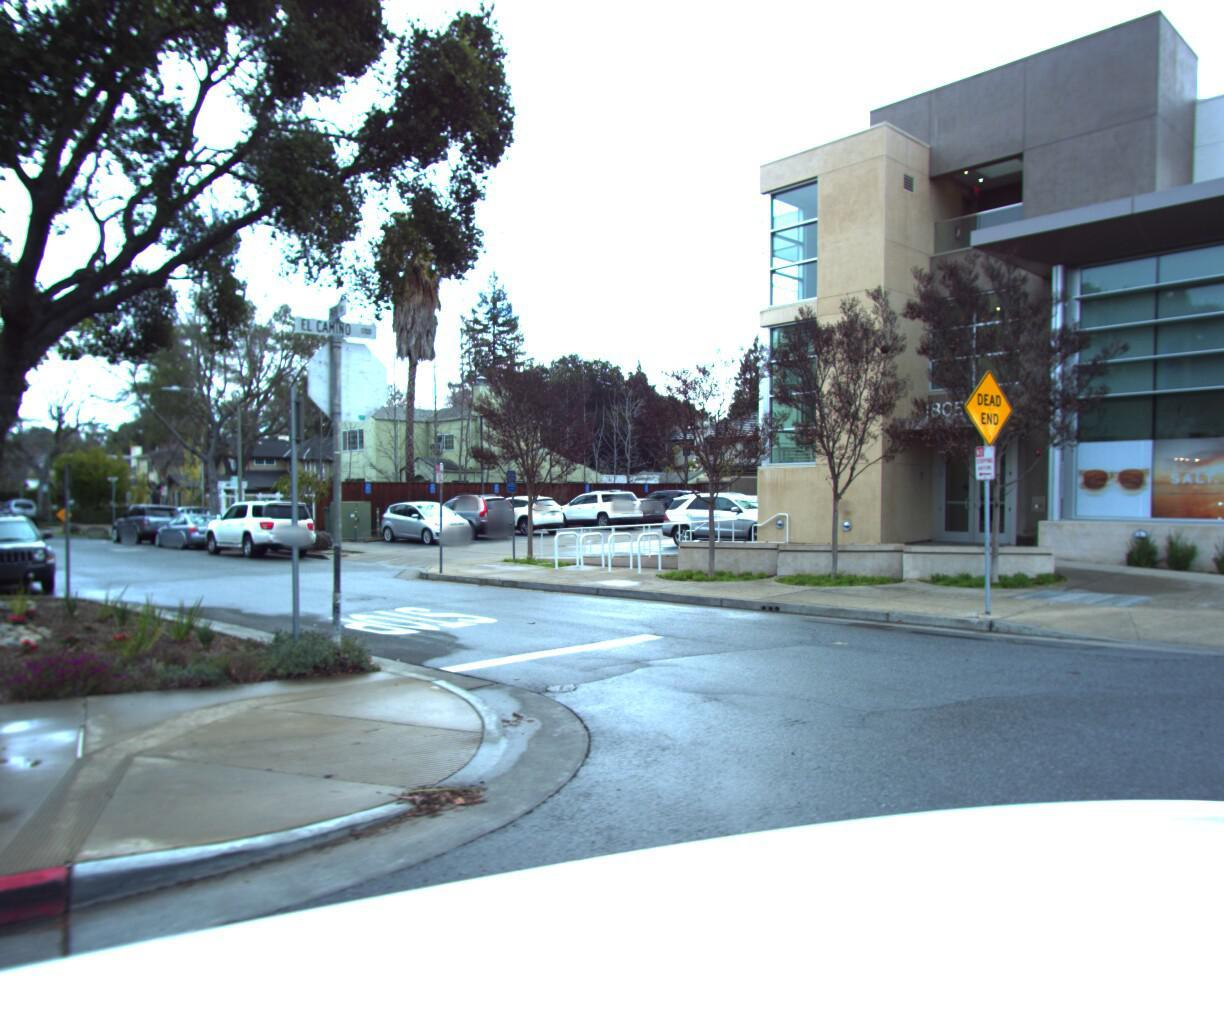car: (200, 491, 328, 559), (0, 507, 70, 604), (377, 497, 480, 544), (424, 492, 521, 537), (107, 498, 195, 544), (148, 508, 247, 549), (0, 496, 47, 525)
